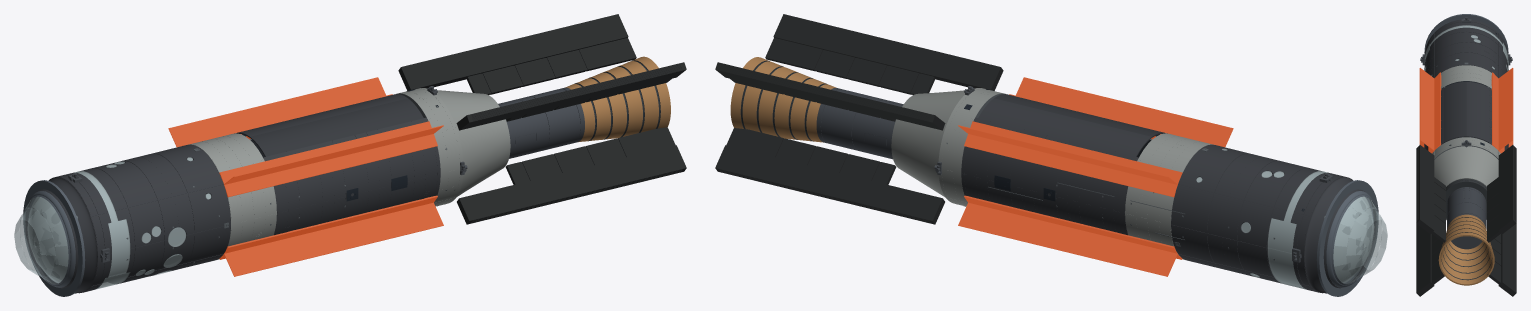
The model's file is wayfarer_exterior_B_medical_88ce19fc_metric_hard_stowed.glb.
3 views of the same model, side by side, from view 1: azimuth 30°, elevation 25°; view 2: azimuth 150°, elevation 25°; view 3: azimuth 270°, elevation 25° (orthographic). The views are drawn at different scales.
Parts seen in each view (by area): view 1: dry:armor, dry:skin_midship, dry:hotfin_220:folded_envelope, dry:hotfin_40:folded_envelope, dry:strake_220:extended_pleat_00, dry:nozzle, dry:strake_140:stowed_stack, dry:strake_40:extended_pleat_00, dry:skin_service, dry:door_port, dry:hotfin_root_40:root, dry:thrust_cone (+15 smaller); view 2: dry:armor, dry:skin_midship, dry:hotfin_320:folded_envelope, dry:hotfin_140:folded_envelope, dry:strake_320:extended_pleat_00, dry:nozzle, dry:strake_40:stowed_stack, dry:strake_140:extended_pleat_00, dry:skin_service, dry:hotfin_root_140:root, dry:door_starboard, dry:thrust_cone (+17 smaller); view 3: dry:armor, dry:nozzle, dry:thrust_cone, dry:hotfin_40:folded_envelope, dry:hotfin_140:folded_envelope, dry:reactor, dry:door_port, dry:door_starboard, dry:strake_40:extended_pleat_00, dry:strake_140:extended_pleat_00, dry:hotfin_220:folded_envelope, dry:hotfin_320:folded_envelope (+14 smaller).
Part boxes in pixels (bbox=[...]): dry:armor: bbox=[25, 144, 230, 292]; dry:skin_midship: bbox=[263, 117, 440, 235]; dry:hotfin_220:folded_envelope: bbox=[457, 145, 686, 224]; dry:hotfin_40:folded_envelope: bbox=[398, 14, 628, 90]; dry:strake_220:extended_pleat_00: bbox=[224, 202, 443, 276]; dry:nozzle: bbox=[565, 56, 670, 142]; dry:strake_140:stowed_stack: bbox=[219, 121, 437, 197]; dry:strake_40:extended_pleat_00: bbox=[168, 77, 385, 147]; dry:skin_service: bbox=[187, 133, 276, 259]; dry:door_port: bbox=[250, 98, 423, 156]; dry:hotfin_root_40:root: bbox=[466, 38, 636, 94]; dry:thrust_cone: bbox=[437, 90, 510, 196]; dry:armor: bbox=[1171, 144, 1376, 292]; dry:skin_midship: bbox=[961, 117, 1138, 235]; dry:hotfin_320:folded_envelope: bbox=[715, 145, 944, 224]; dry:hotfin_140:folded_envelope: bbox=[773, 14, 1003, 90]; dry:strake_320:extended_pleat_00: bbox=[958, 202, 1177, 276]; dry:nozzle: bbox=[730, 57, 836, 142]; dry:strake_40:stowed_stack: bbox=[964, 121, 1182, 197]; dry:strake_140:extended_pleat_00: bbox=[1016, 77, 1233, 147]; dry:skin_service: bbox=[1125, 133, 1214, 259]; dry:hotfin_root_140:root: bbox=[765, 38, 935, 94]; dry:door_starboard: bbox=[978, 98, 1151, 156]; dry:thrust_cone: bbox=[891, 90, 964, 197]; dry:armor: bbox=[1424, 19, 1508, 78]; dry:nozzle: bbox=[1438, 214, 1494, 285]; dry:thrust_cone: bbox=[1434, 146, 1498, 220]; dry:hotfin_40:folded_envelope: bbox=[1498, 145, 1516, 234]; dry:hotfin_140:folded_envelope: bbox=[1416, 145, 1434, 234]; dry:reactor: bbox=[1447, 187, 1486, 249]; dry:door_port: bbox=[1444, 82, 1466, 142]; dry:door_starboard: bbox=[1466, 82, 1488, 142]; dry:strake_40:extended_pleat_00: bbox=[1498, 68, 1513, 150]; dry:strake_140:extended_pleat_00: bbox=[1419, 68, 1434, 150]; dry:hotfin_220:folded_envelope: bbox=[1416, 224, 1434, 296]; dry:hotfin_320:folded_envelope: bbox=[1498, 224, 1516, 296].
Size of the model in its own units: 54.5 by 9.92 by 10.73.
